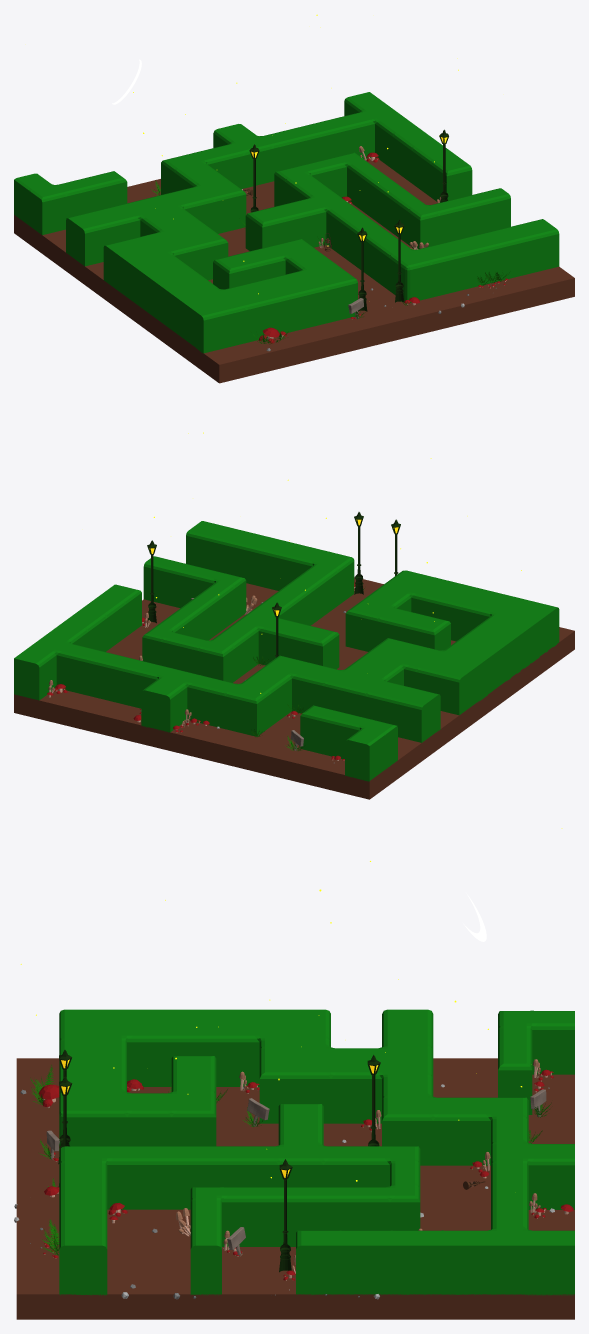
File: maze_of_madness.glb
The picture shows the model from 3 angles, top to bottom: view 1: azimuth 30°, elevation 25°; view 2: azimuth 150°, elevation 25°; view 3: azimuth 270°, elevation 25°; orthographic projection. The views are drawn at different scales.
Visible parts, largest first — view 1: Maze, Ground; view 2: Maze, Ground; view 3: Maze, Ground.
Part boxes in pixels (x1,y1,x2,y2): Maze: [14, 92, 559, 353]; Ground: [14, 157, 574, 383]; Maze: [14, 512, 559, 781]; Ground: [14, 577, 574, 799]; Maze: [58, 1009, 574, 1295]; Ground: [16, 1058, 574, 1319].
Size of the model in its own units: 20.12 by 10.47 by 20.1.
